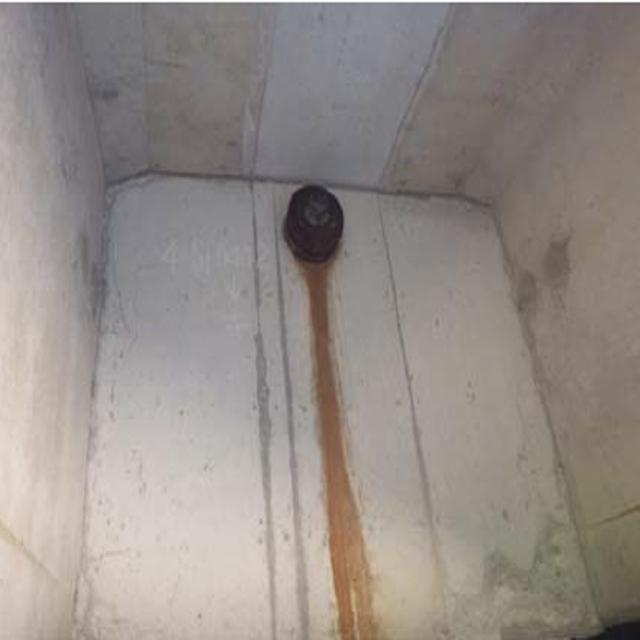corrosion: (267, 160, 352, 267)
spalling: (443, 521, 610, 640), (494, 227, 582, 329)
